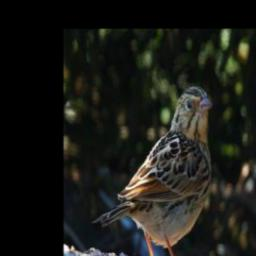Sparrow: (90, 78, 218, 256)
